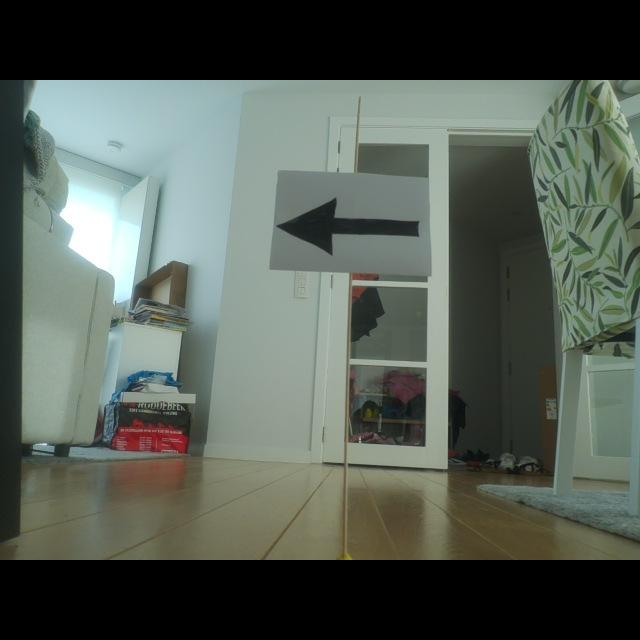balra_nyil: (277, 198, 419, 255)
